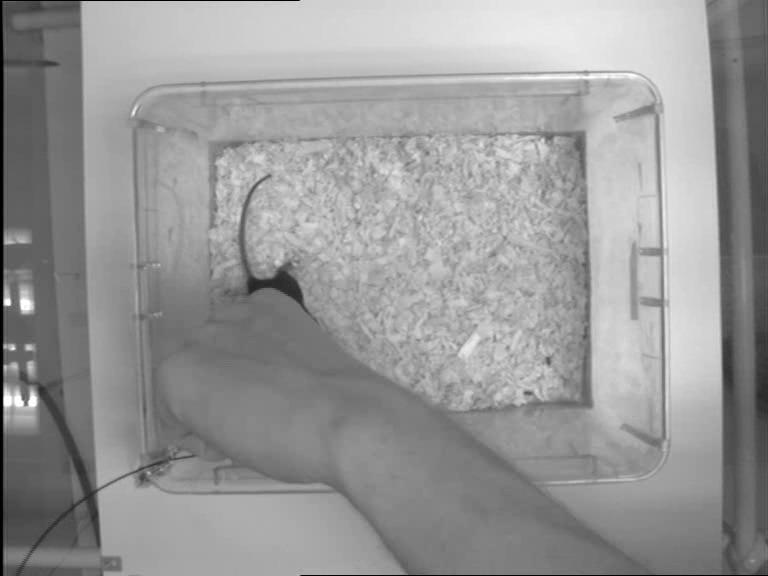mice: (236, 173, 318, 333)
